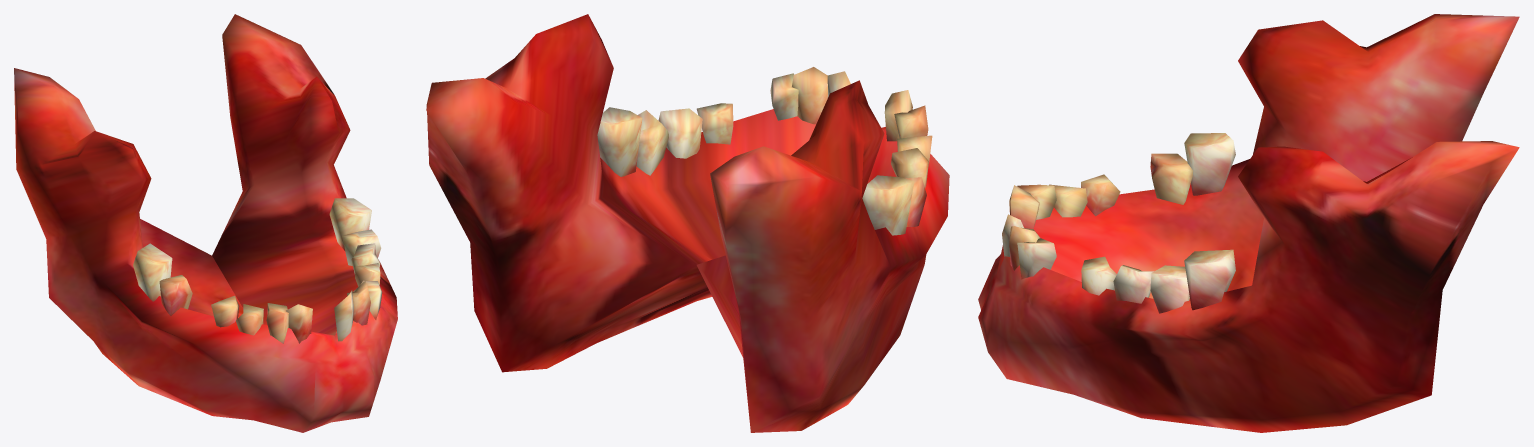
File: female_jawbone.fbx
3 renders of one model, left to right at view 1: azimuth 30°, elevation 25°; view 2: azimuth 150°, elevation 25°; view 3: azimuth 270°, elevation 25°, orthographic. The views are drawn at different scales.
Parts seen in each view (by area): view 1: jawbone8; view 2: jawbone8; view 3: jawbone8.
Boxes of the visible parts, x1,y1,x2,y2 form: jawbone8: [14, 14, 397, 432]; jawbone8: [426, 14, 949, 432]; jawbone8: [978, 14, 1519, 432].
Size of the model in its own units: 0.1224 by 0.0974 by 0.1608.
